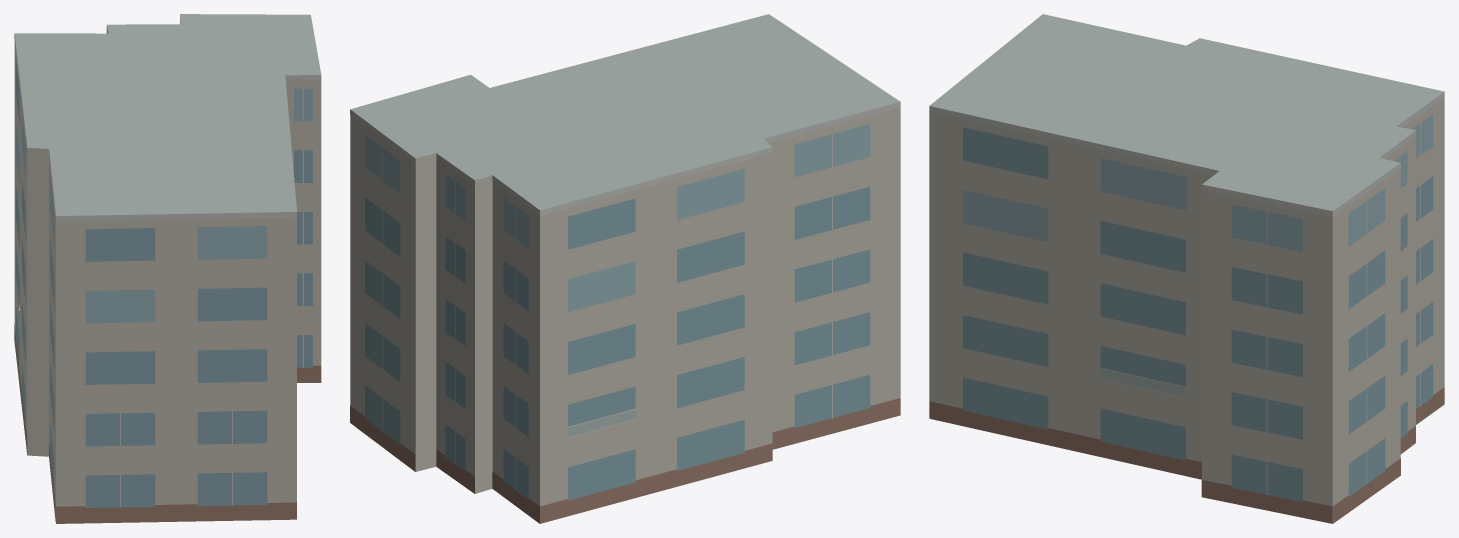
File: survey-upis-32871642.glb
3 renders of one model, left to right at view 1: azimuth 30°, elevation 25°; view 2: azimuth 150°, elevation 25°; view 3: azimuth 270°, elevation 25°, orthographic.
Visible parts, largest first — view 1: survey-upis-32871642.tmp; view 2: survey-upis-32871642.tmp; view 3: survey-upis-32871642.tmp.
Part boxes in pixels (bbox=[...]): survey-upis-32871642.tmp: bbox=[14, 14, 321, 523]; survey-upis-32871642.tmp: bbox=[350, 14, 900, 523]; survey-upis-32871642.tmp: bbox=[929, 14, 1444, 523].
Bounding box in the file's own units: 18.8 × 13.9 × 20.77.
